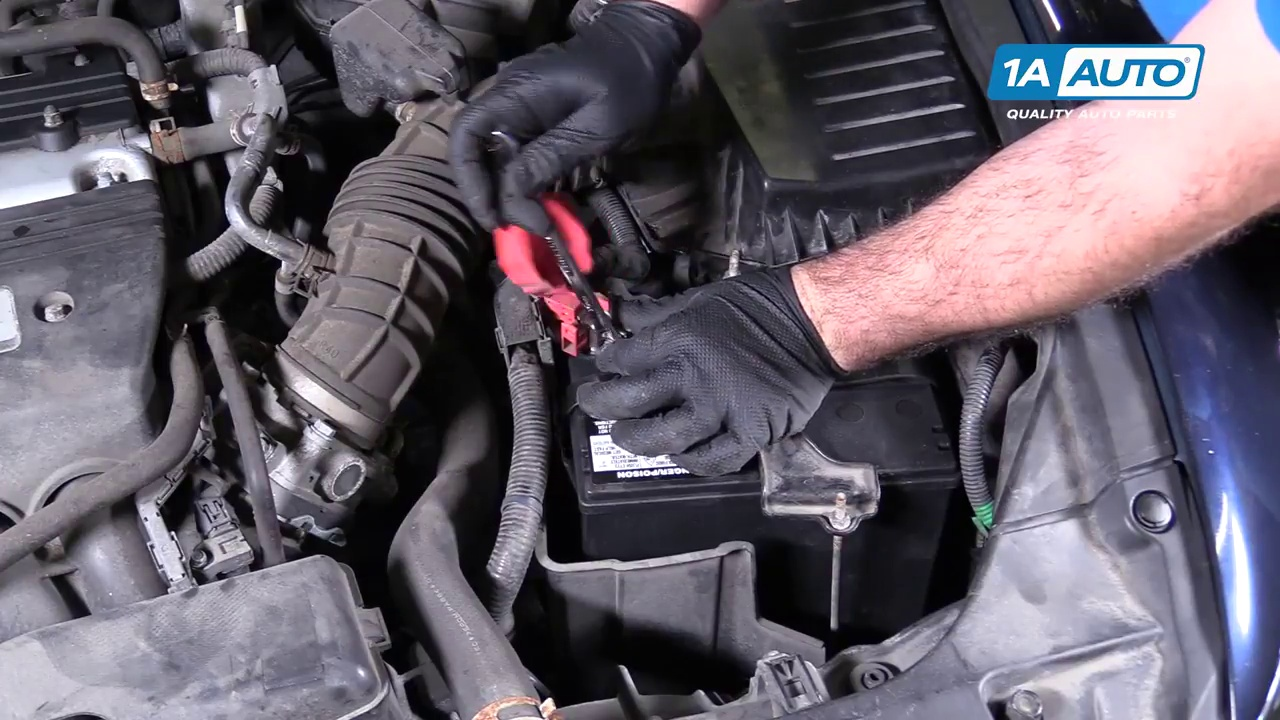battery: (537, 291, 961, 499)
pos_touched: (486, 133, 664, 399)
